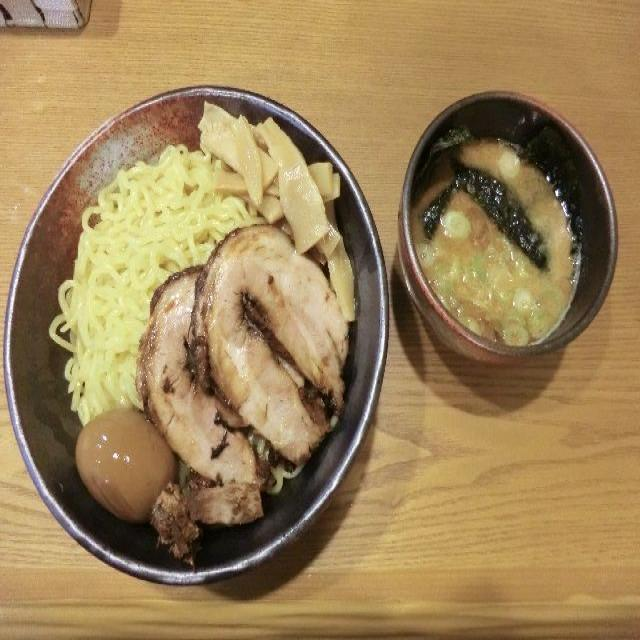汤锅炖物: (390, 91, 604, 373)
面条主食: (10, 93, 380, 587)
